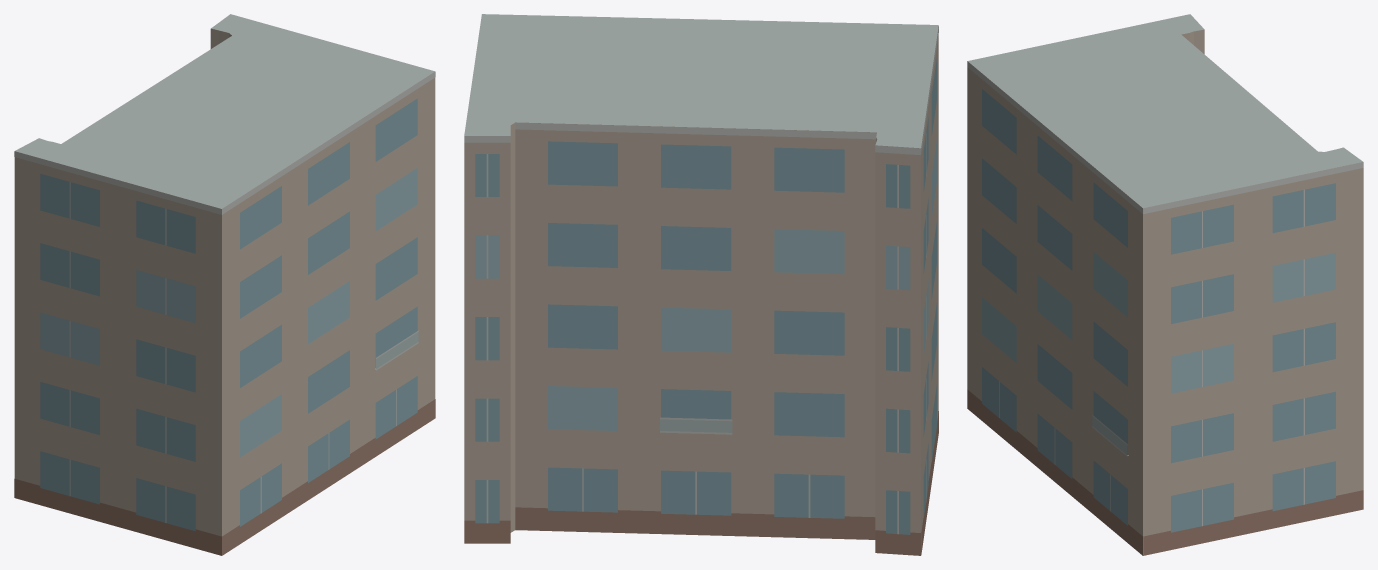
The model's file is survey-upis-32958587.glb.
3 views of the same model, side by side, from view 1: azimuth 30°, elevation 25°; view 2: azimuth 150°, elevation 25°; view 3: azimuth 270°, elevation 25° (orthographic). The views are drawn at different scales.
Parts seen in each view (by area): view 1: survey-upis-32958587.tmp; view 2: survey-upis-32958587.tmp; view 3: survey-upis-32958587.tmp.
Boxes of the visible parts, x1,y1,x2,y2 form: survey-upis-32958587.tmp: [14, 14, 435, 555]; survey-upis-32958587.tmp: [464, 14, 938, 555]; survey-upis-32958587.tmp: [967, 14, 1363, 555].
Bounding box in the file's own units: 17.15 × 14.3 × 14.78.
